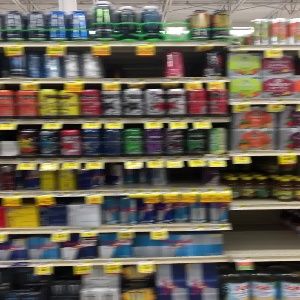void: (232, 208, 298, 258), (100, 46, 164, 78), (182, 46, 205, 77)
